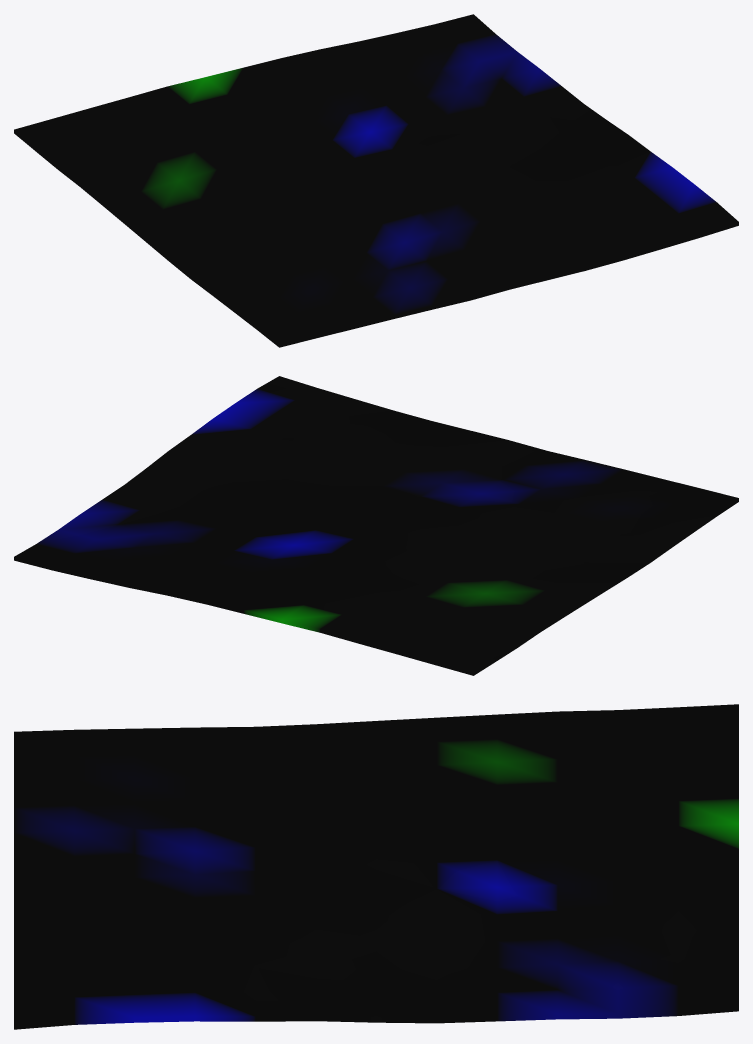
The model's file is coast_22_5.glb.
3 renders of one model, top to bottom at view 1: azimuth 30°, elevation 25°; view 2: azimuth 150°, elevation 25°; view 3: azimuth 270°, elevation 25°, orthographic. The views are drawn at different scales.
Visible parts, largest first — view 1: terrain; view 2: terrain; view 3: terrain.
Part boxes in pixels (x1,y1,x2,y2): terrain: [14, 14, 738, 347]; terrain: [14, 376, 738, 675]; terrain: [14, 704, 738, 1029].
Bounding box in the file's own units: 192 × 12.02 × 192.
